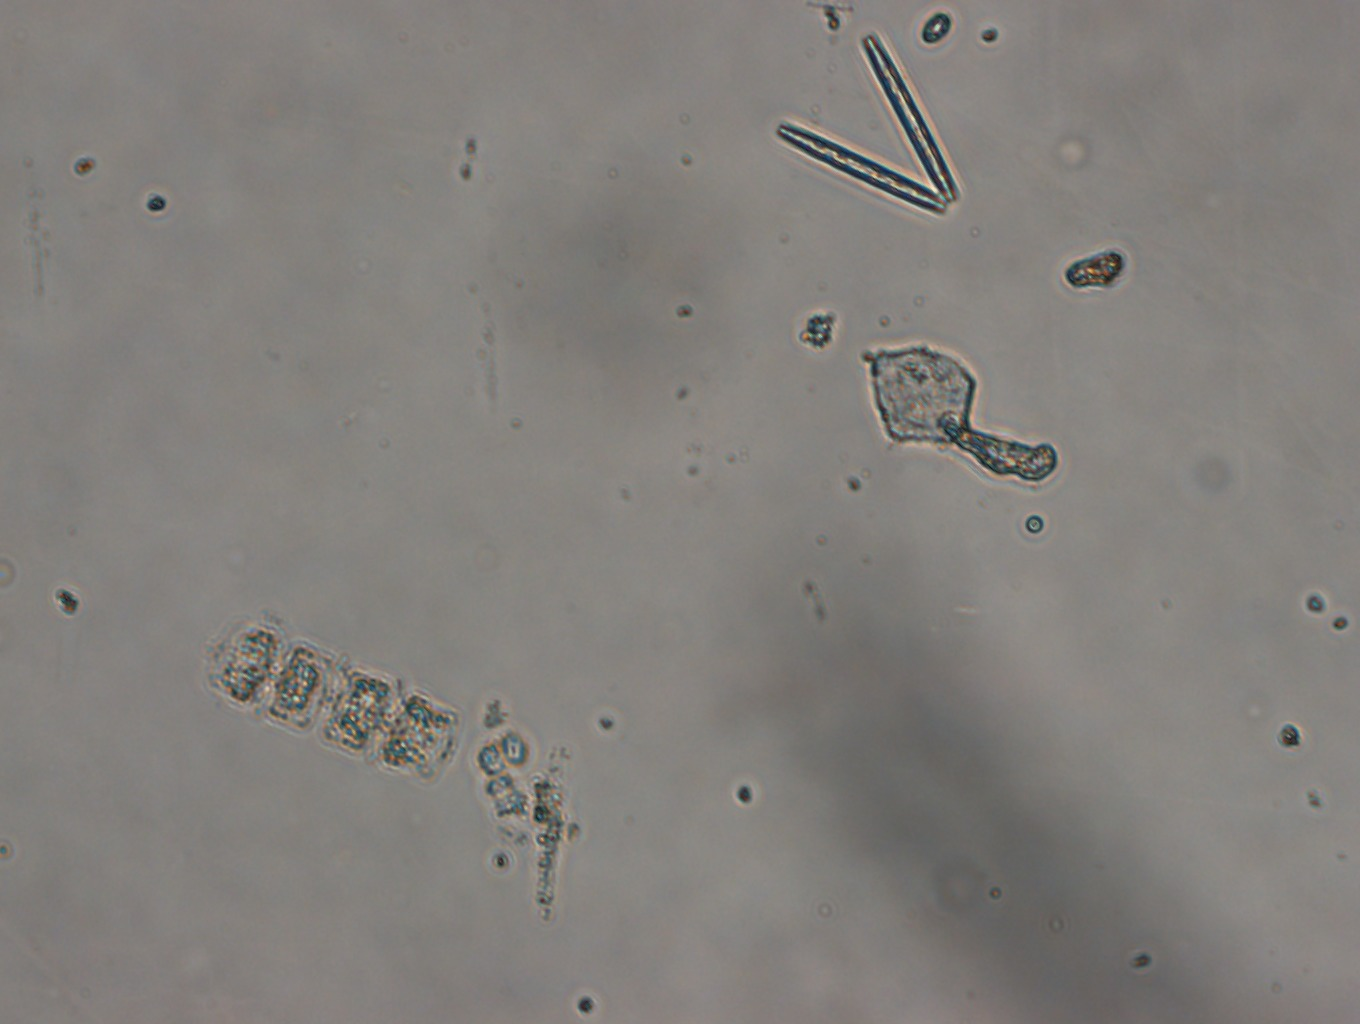detonula pumila: (194, 618, 481, 799)
thalassionema frauenfeldii: (778, 33, 964, 227)
